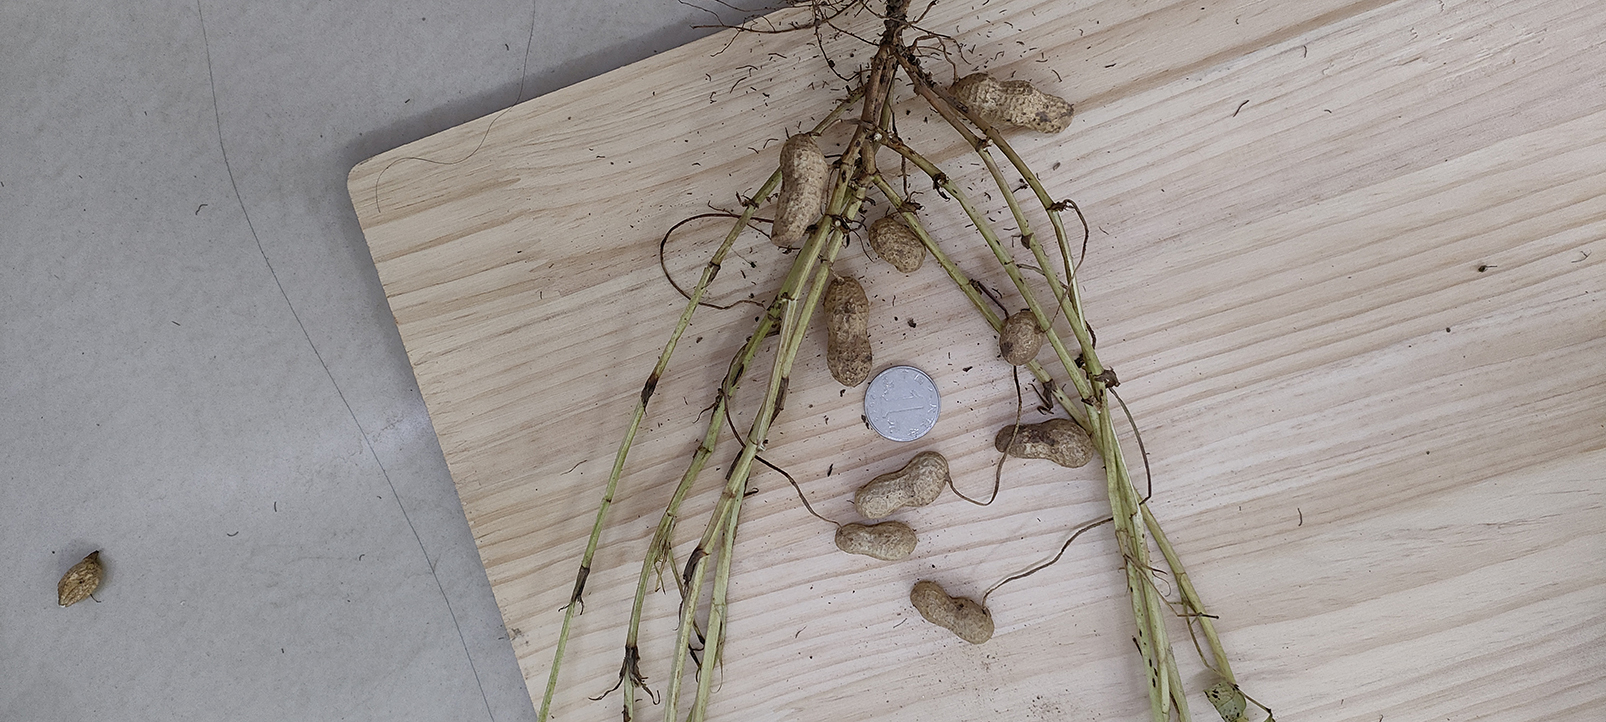h: (952, 73, 1077, 133), (852, 452, 950, 518), (772, 137, 830, 246), (911, 580, 996, 645), (822, 277, 874, 385), (835, 520, 917, 561), (869, 214, 927, 271), (996, 305, 1046, 363)
l: (995, 417, 1094, 471)
